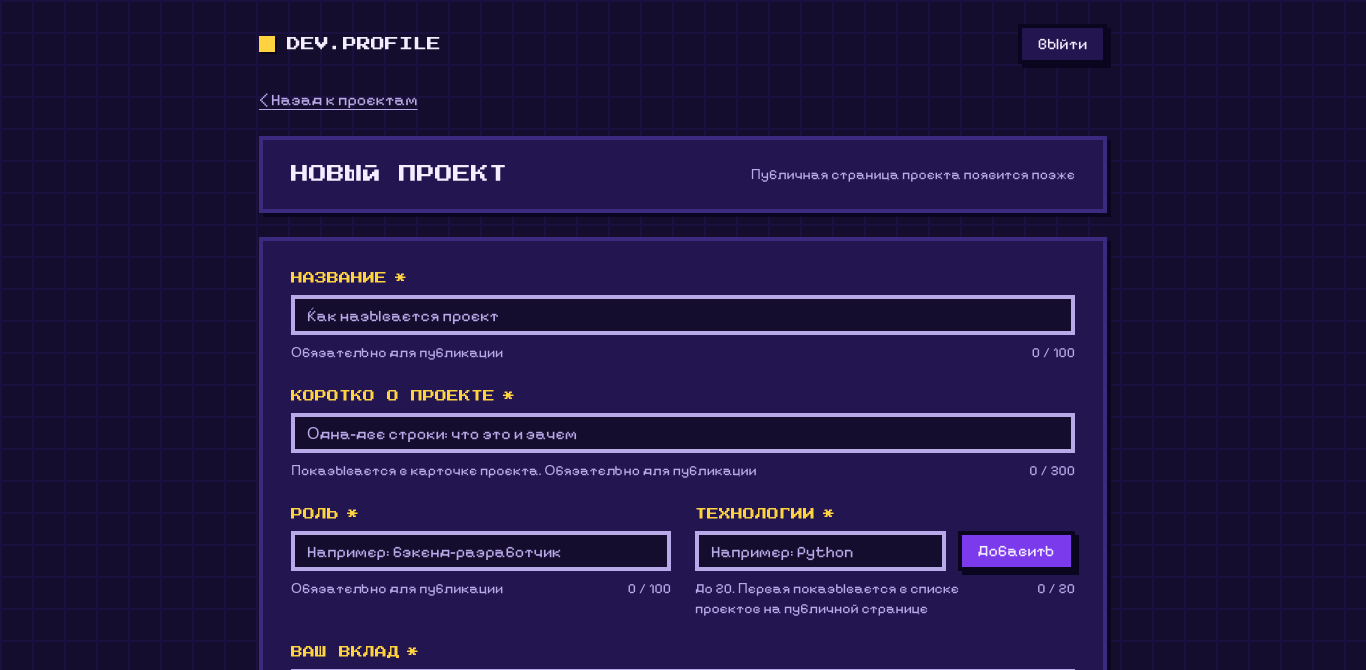
Test case: technologies › Enter and «Добавить» add trimmed names in order; Enter does not submit
In the field labelled "Технологии": (820, 551) [695,531,946,571], type "  Node   js "
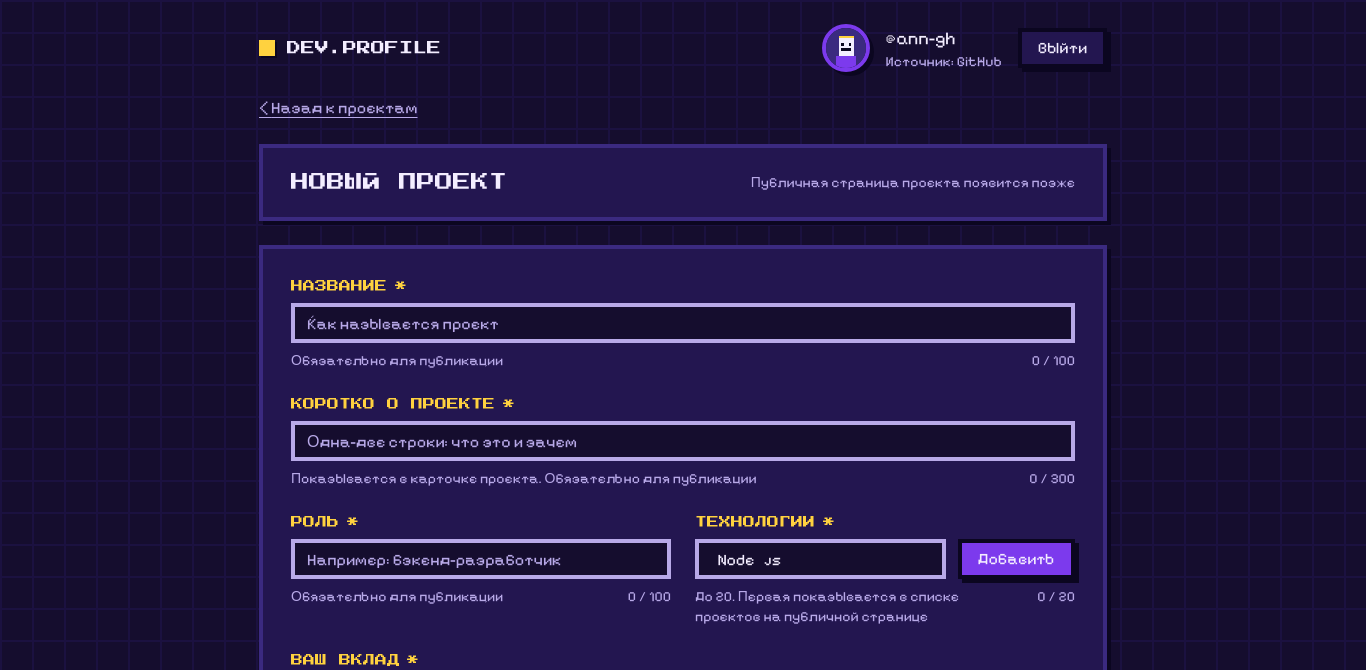
Press Enter in the field labelled "Технологии", box [695,539,946,579]
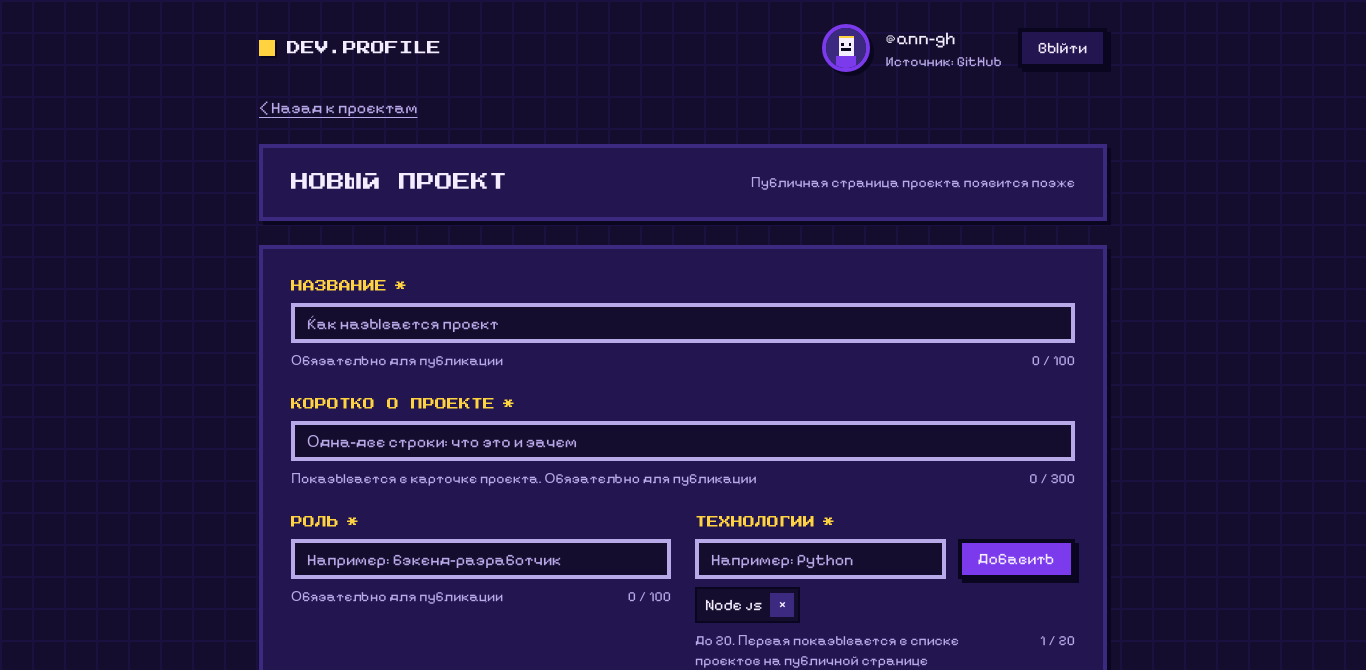
In the field labelled "Технологии": (820, 559) [695,539,946,579], type "FastAPI"
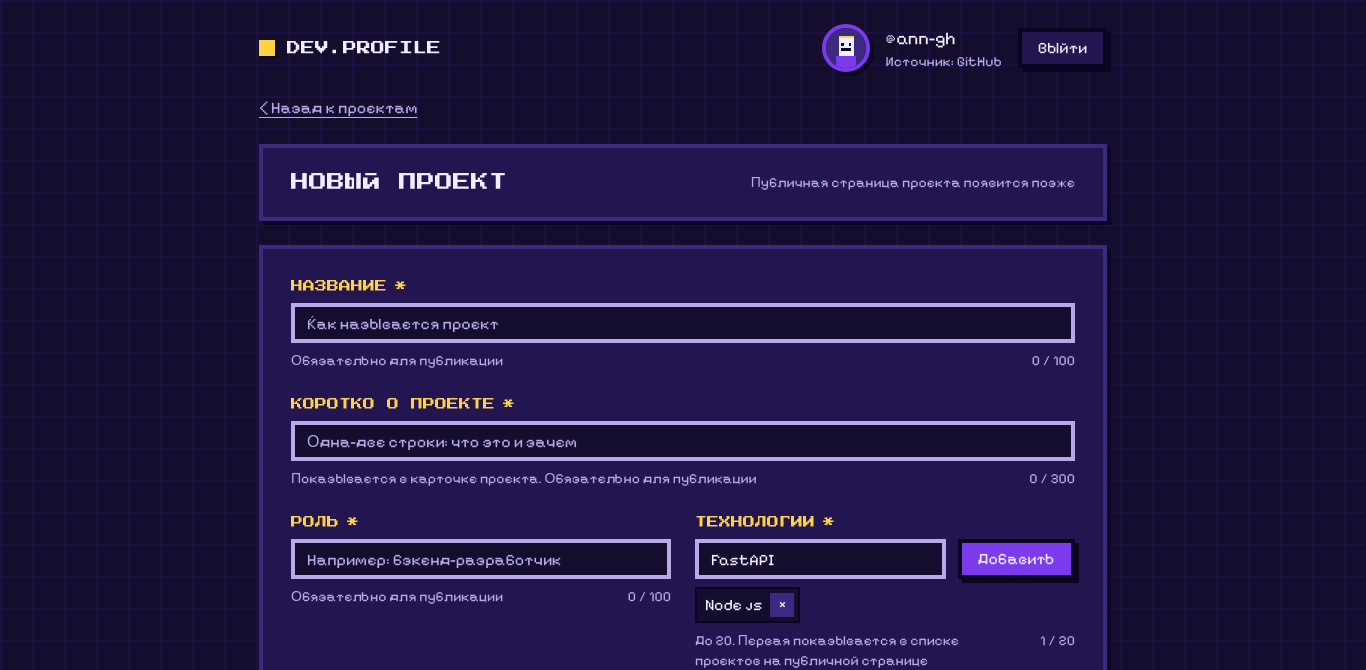
Click the button "Добавить": (1016, 559) [958,539,1075,579]
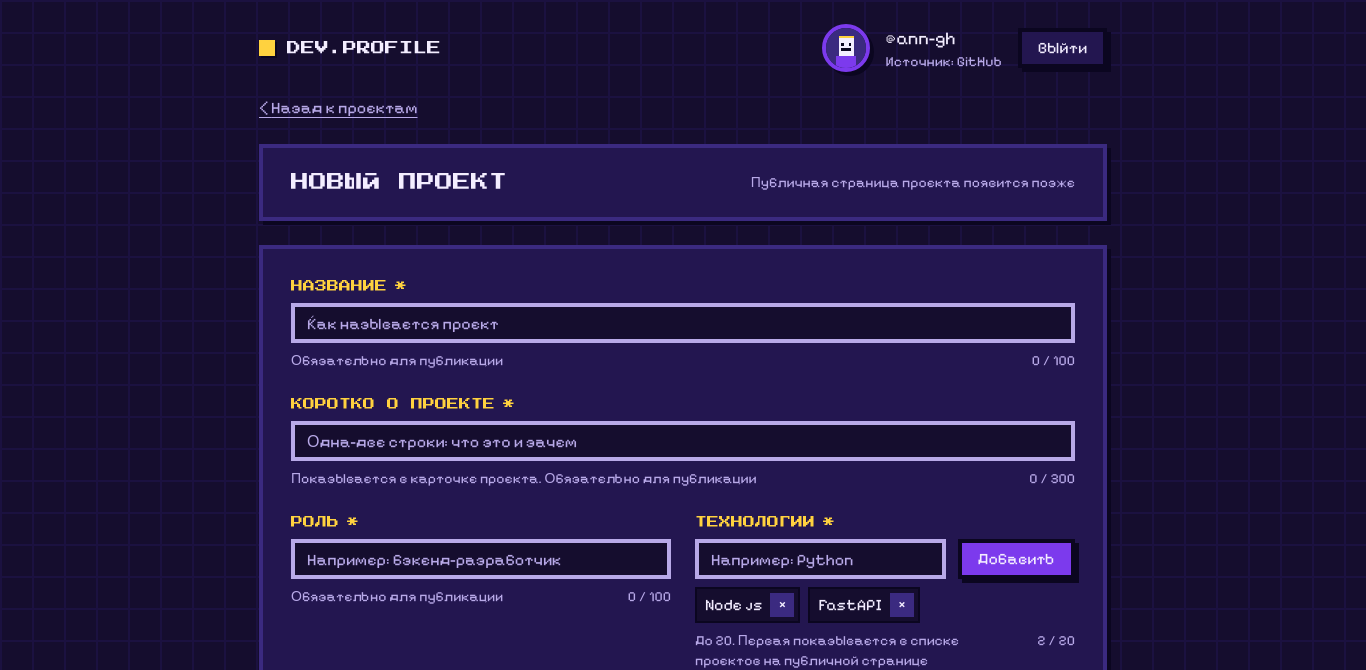
expect the field labelled "Технологии" is empty: met, box [695,539,946,579]
expect the text "2 / 20" is shown: met, box [1037,632,1075,649]
